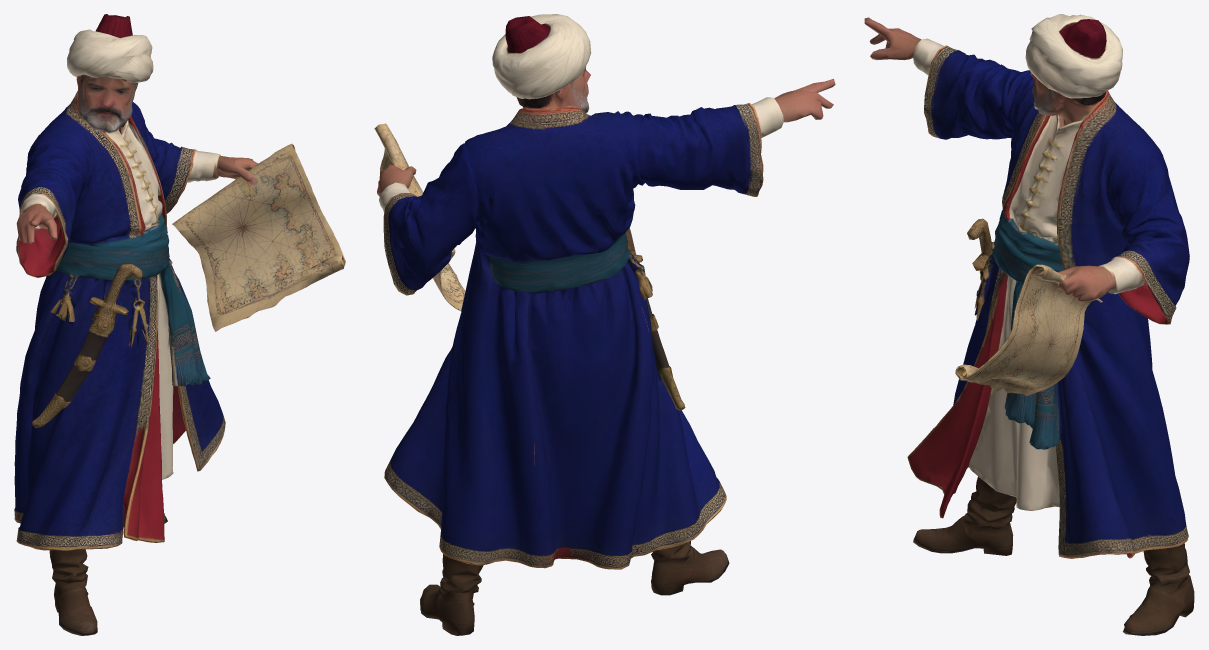
Rendered from kaptan-i-derya-komutan-1550-1600-tripo-v1.glb.
The picture shows the model from 3 angles, left to right: view 1: azimuth 30°, elevation 25°; view 2: azimuth 150°, elevation 25°; view 3: azimuth 270°, elevation 25°; orthographic projection. The views are drawn at different scales.
Parts seen in each view (by area): view 1: tripo_node_927249b9-6d6a-46b3-9c03-fa20d7f8d5d2; view 2: tripo_node_927249b9-6d6a-46b3-9c03-fa20d7f8d5d2; view 3: tripo_node_927249b9-6d6a-46b3-9c03-fa20d7f8d5d2.
Part boxes in pixels (x1=…): tripo_node_927249b9-6d6a-46b3-9c03-fa20d7f8d5d2: x1=14, y1=14, x2=345, y2=635; tripo_node_927249b9-6d6a-46b3-9c03-fa20d7f8d5d2: x1=374, y1=14, x2=835, y2=635; tripo_node_927249b9-6d6a-46b3-9c03-fa20d7f8d5d2: x1=864, y1=14, x2=1194, y2=635.
Bounding box in the file's own units: 0.6992 × 1 × 0.5139.
Materials: 1 (1 with a texture image).
